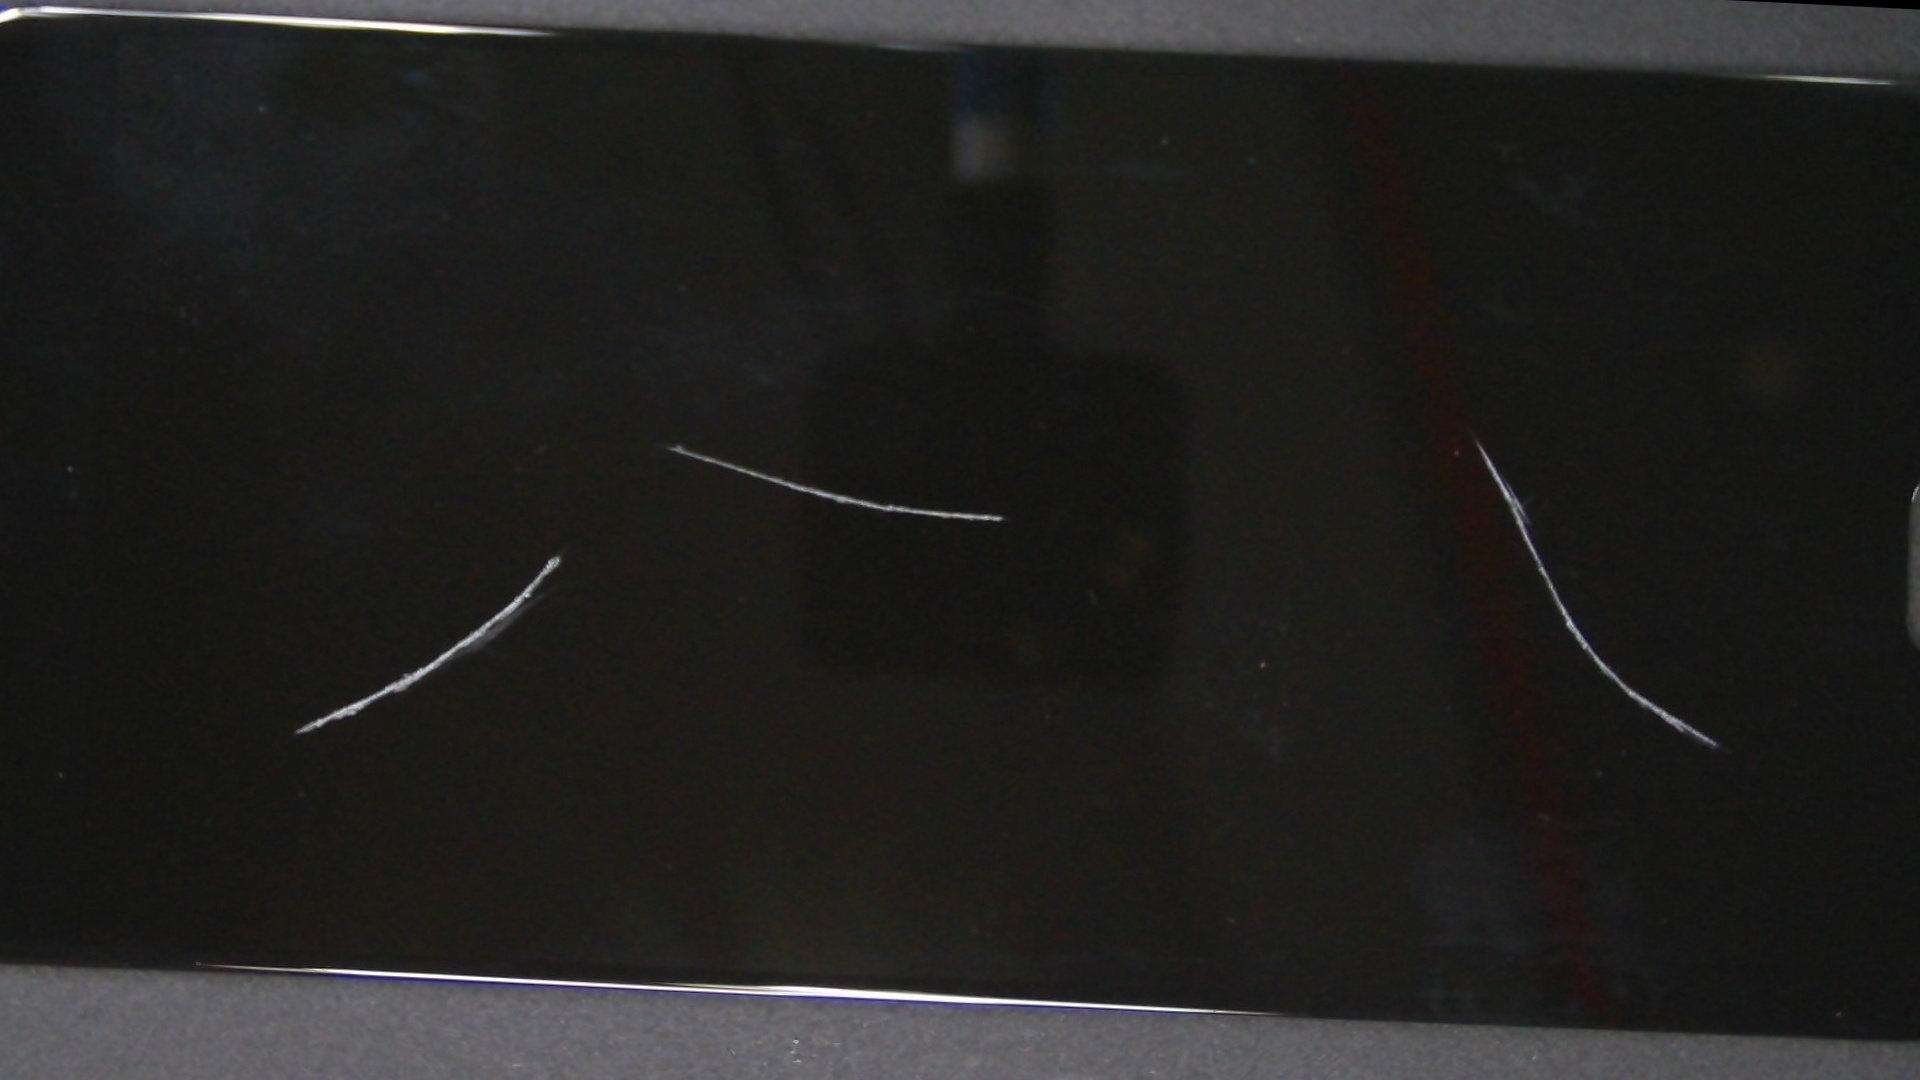oil: (638, 173, 1920, 696), (174, 231, 945, 878), (240, 175, 1118, 713)
